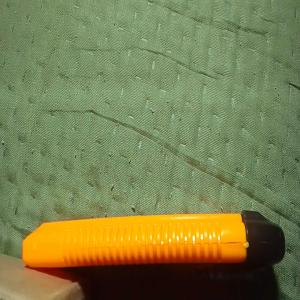estilete: (21, 208, 286, 270)
